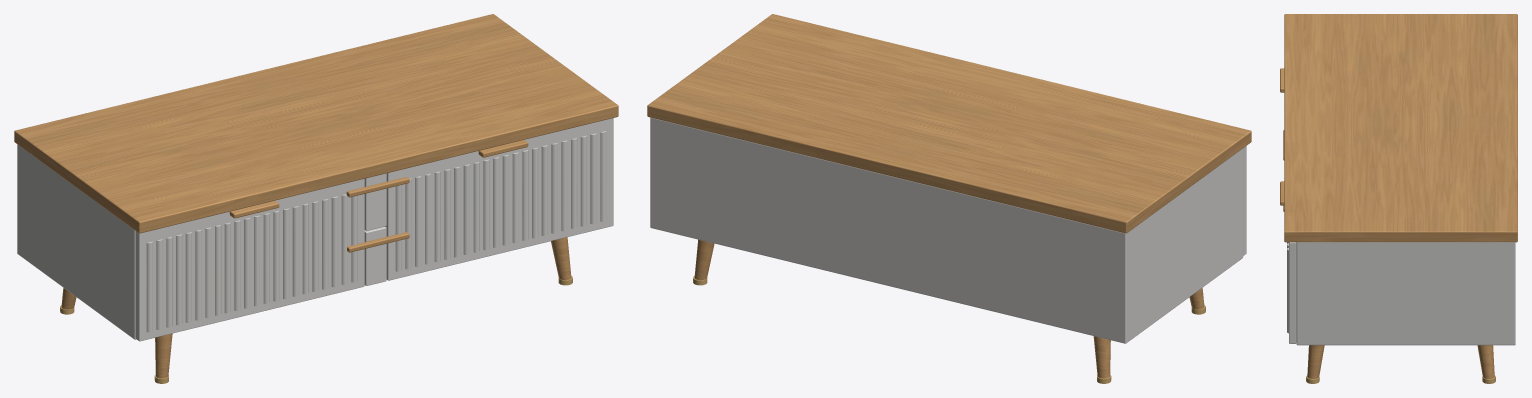
The model's file is tv_stand_3.glb.
3 renders of one model, left to right at view 1: azimuth 30°, elevation 25°; view 2: azimuth 150°, elevation 25°; view 3: azimuth 270°, elevation 25°, orthographic. The views are drawn at different scales.
Visible parts, largest first — view 1: tv_stand_3_top, tv_stand_3_fronts, tv_stand_3_flutes, tv_stand_3_carcass, tv_stand_3_legs, tv_stand_3_pulls; view 2: tv_stand_3_carcass, tv_stand_3_top, tv_stand_3_legs; view 3: tv_stand_3_top, tv_stand_3_carcass, tv_stand_3_legs, tv_stand_3_fronts, tv_stand_3_pulls.
Part boxes in pixels (bbox=[...]): tv_stand_3_top: bbox=[14, 14, 618, 233]; tv_stand_3_fronts: bbox=[135, 118, 613, 341]; tv_stand_3_flutes: bbox=[146, 131, 606, 332]; tv_stand_3_carcass: bbox=[17, 144, 135, 339]; tv_stand_3_legs: bbox=[60, 237, 572, 383]; tv_stand_3_pulls: bbox=[229, 140, 528, 252]; tv_stand_3_carcass: bbox=[650, 117, 1243, 343]; tv_stand_3_top: bbox=[647, 14, 1251, 233]; tv_stand_3_legs: bbox=[693, 239, 1205, 383]; tv_stand_3_top: bbox=[1284, 14, 1517, 242]; tv_stand_3_carcass: bbox=[1296, 242, 1515, 345]; tv_stand_3_legs: bbox=[1306, 345, 1495, 383]; tv_stand_3_fronts: bbox=[1289, 242, 1296, 343]; tv_stand_3_pulls: bbox=[1280, 68, 1284, 211].
Bounding box in the file's own units: 1.26 × 0.45 × 0.581.
Materials: 3 (1 with a texture image).
